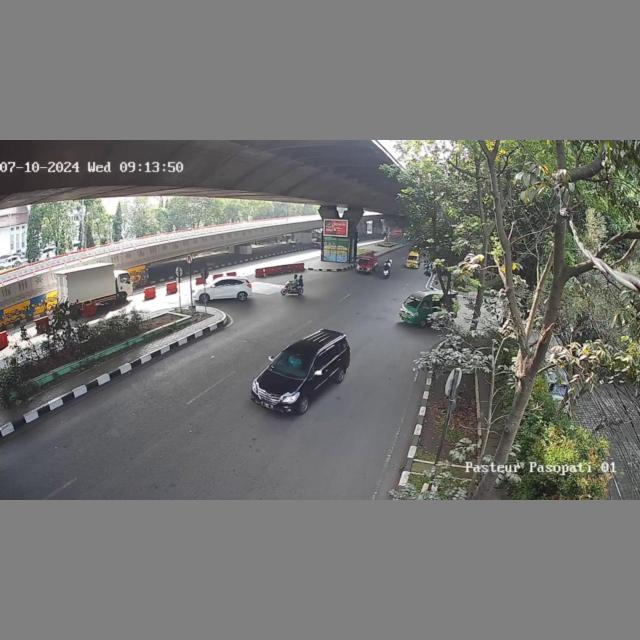windshield: (269, 346, 316, 378)
